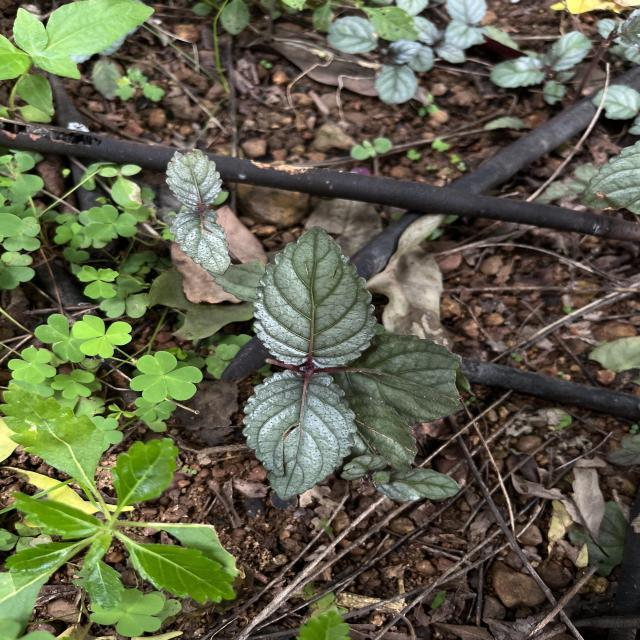Hemigraphis colorata: (249, 224, 379, 372), (240, 366, 360, 504), (329, 330, 466, 426), (160, 208, 233, 276), (164, 146, 224, 208)
